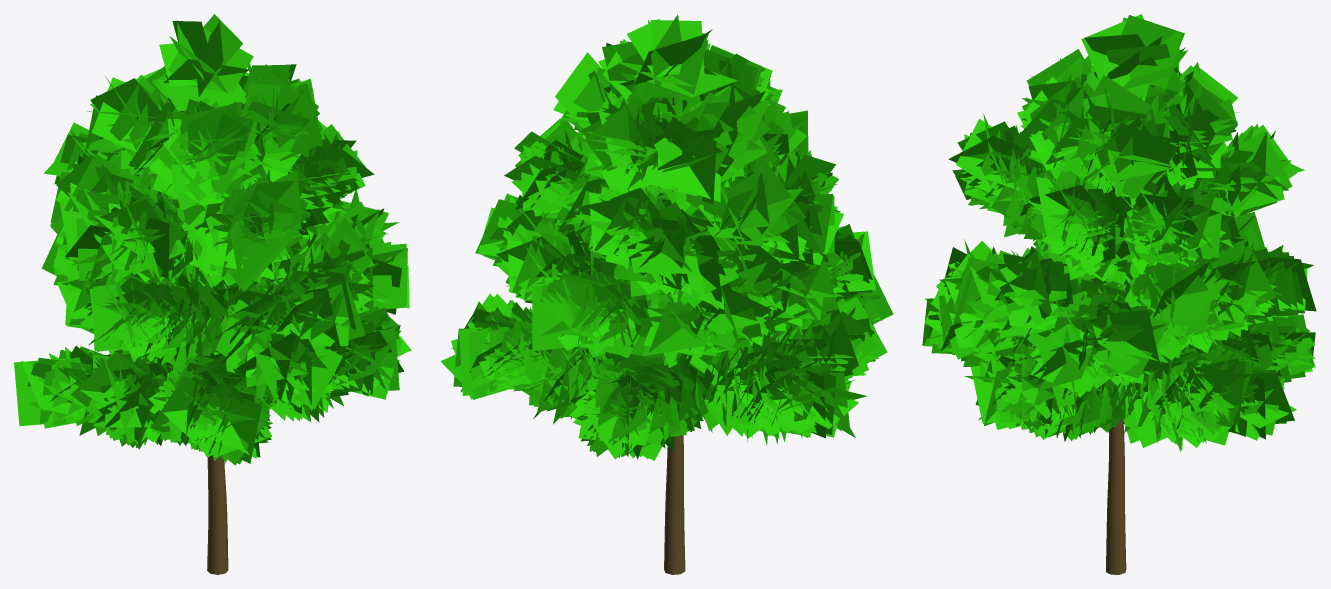
Rendered from pine_small.fbx.
3 renders of one model, left to right at view 1: azimuth 30°, elevation 25°; view 2: azimuth 150°, elevation 25°; view 3: azimuth 270°, elevation 25°, orthographic. The views are drawn at different scales.
Parts seen in each view (by area): view 1: leaves, tree; view 2: leaves, tree; view 3: leaves, tree.
Boxes of the visible parts, bbox=[...] form: leaves: bbox=[14, 14, 411, 465]; tree: bbox=[207, 455, 228, 574]; leaves: bbox=[440, 14, 893, 460]; tree: bbox=[664, 75, 742, 574]; leaves: bbox=[922, 14, 1316, 452]; tree: bbox=[1106, 62, 1141, 574].
Bounding box in the file's own units: 922 × 1311 × 850.
